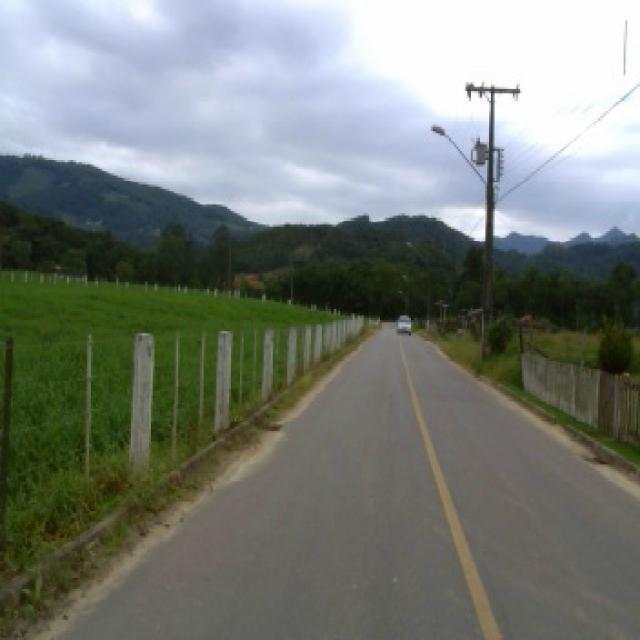Poth-hole: (252, 413, 286, 429), (585, 451, 613, 462)
